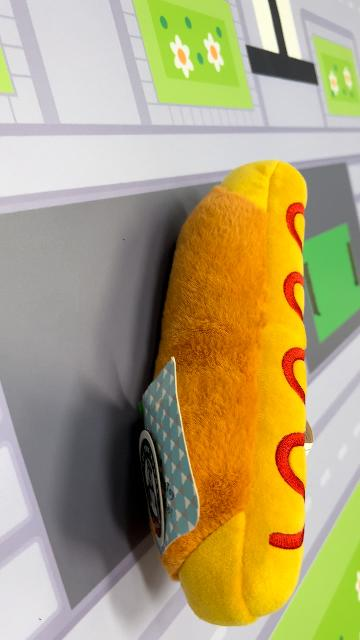hotdog: (138, 158, 312, 628)
